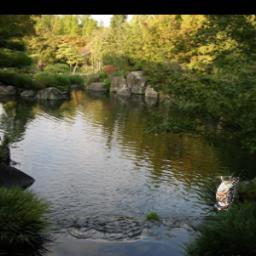Sparrow: (215, 177, 240, 211)
